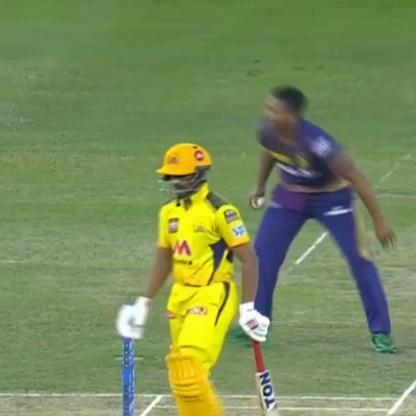ball: (248, 195, 268, 212)
